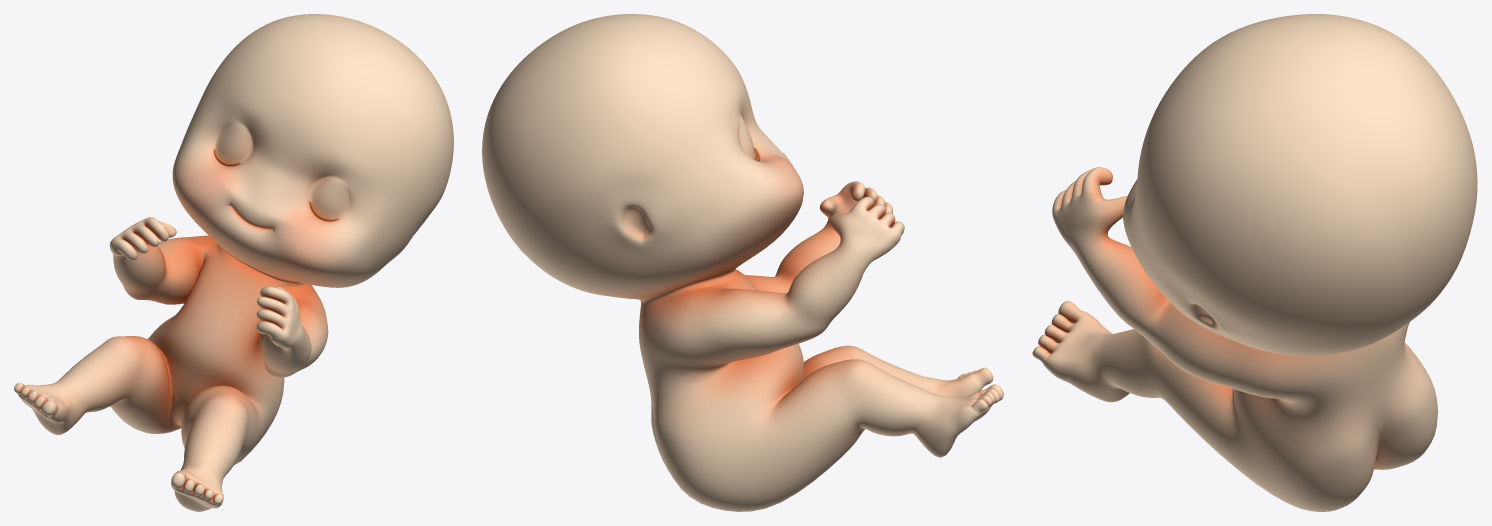
3 renders of one model, left to right at view 1: azimuth 30°, elevation 25°; view 2: azimuth 150°, elevation 25°; view 3: azimuth 270°, elevation 25°, orthographic. The views are drawn at different scales.
Parts seen in each view (by area): view 1: Roundcube.002; view 2: Roundcube.002; view 3: Roundcube.002.
Part boxes in pixels (x1,y1,x2,y2): Roundcube.002: (14, 14, 453, 511); Roundcube.002: (482, 14, 1003, 511); Roundcube.002: (1032, 14, 1477, 511).
Bounding box in the file's own units: 3.06 × 2.76 × 2.07.
Materials: 1 (1 with a texture image).
